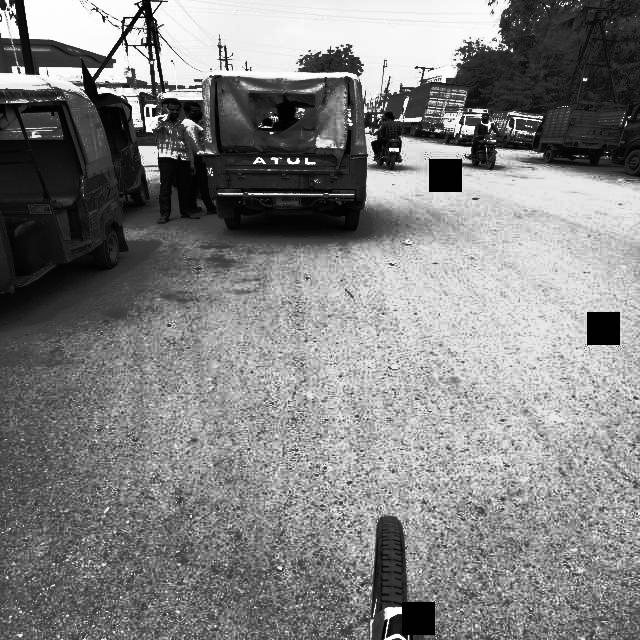Auto-Rickshaw: (195, 64, 375, 242), (4, 65, 133, 309)
Bike: (372, 113, 405, 172), (469, 116, 501, 169)
LCV: (530, 104, 626, 161), (504, 105, 539, 143)
